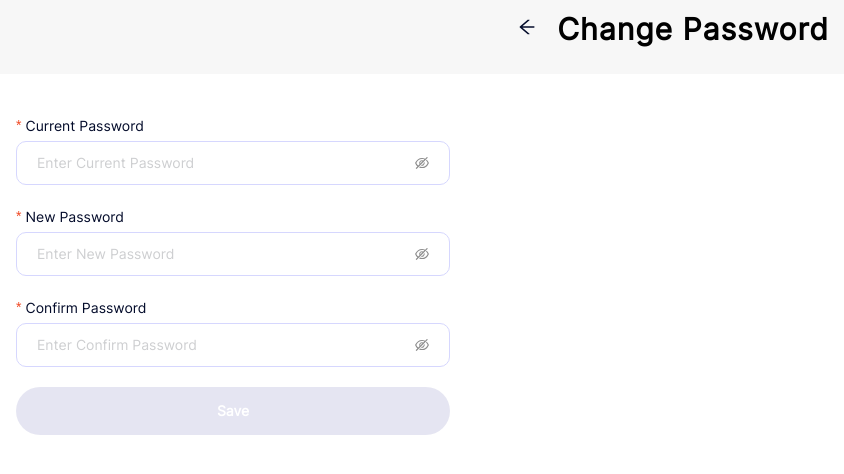
Test: ChangePassword Component › validates confirm password mismatch
Type "NewPassword123!" into the password field labelled "New Password" at (223, 254), box [37,243,409,265]
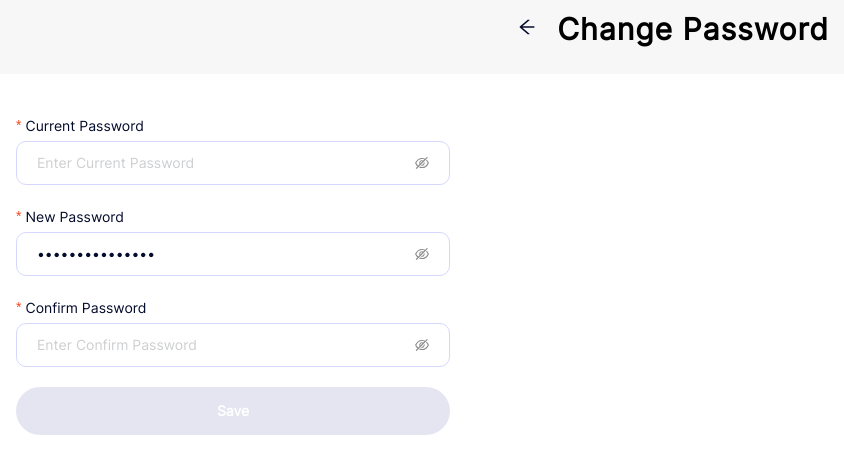
Type "WrongPassword" into the password field labelled "Confirm Password" at (223, 345), box [37,334,409,356]
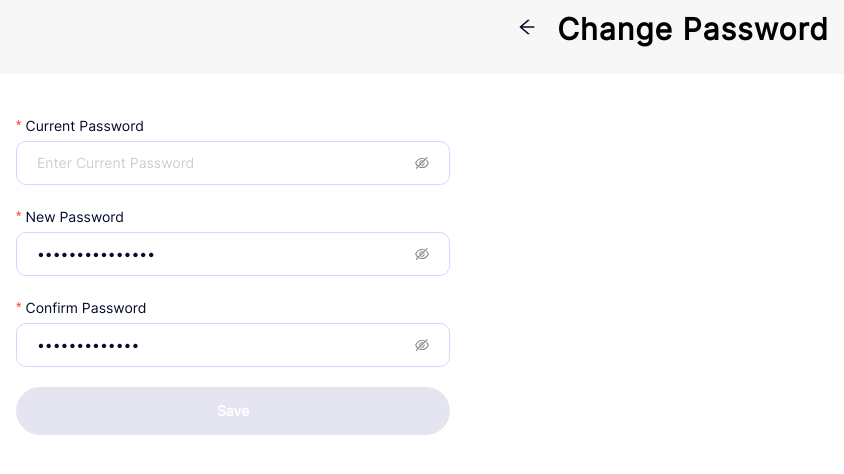
Click the button "Save" at (233, 411), box [16,387,450,435]
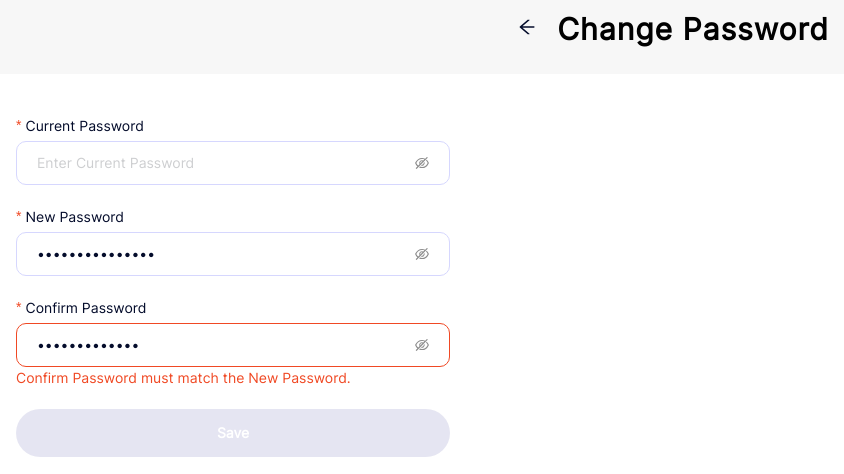
Result: the text "Confirm Password must match the New Password." is shown at [16,369,351,386]
